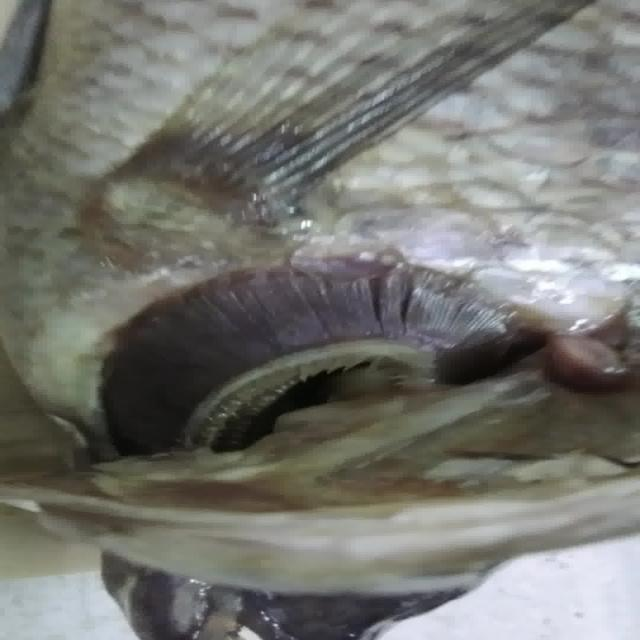Non-Fresh: (61, 253, 545, 457)
